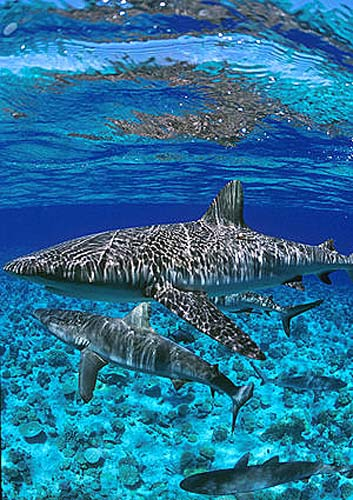Carcharhinus_amblyrhynchos: (4, 184, 353, 417)
